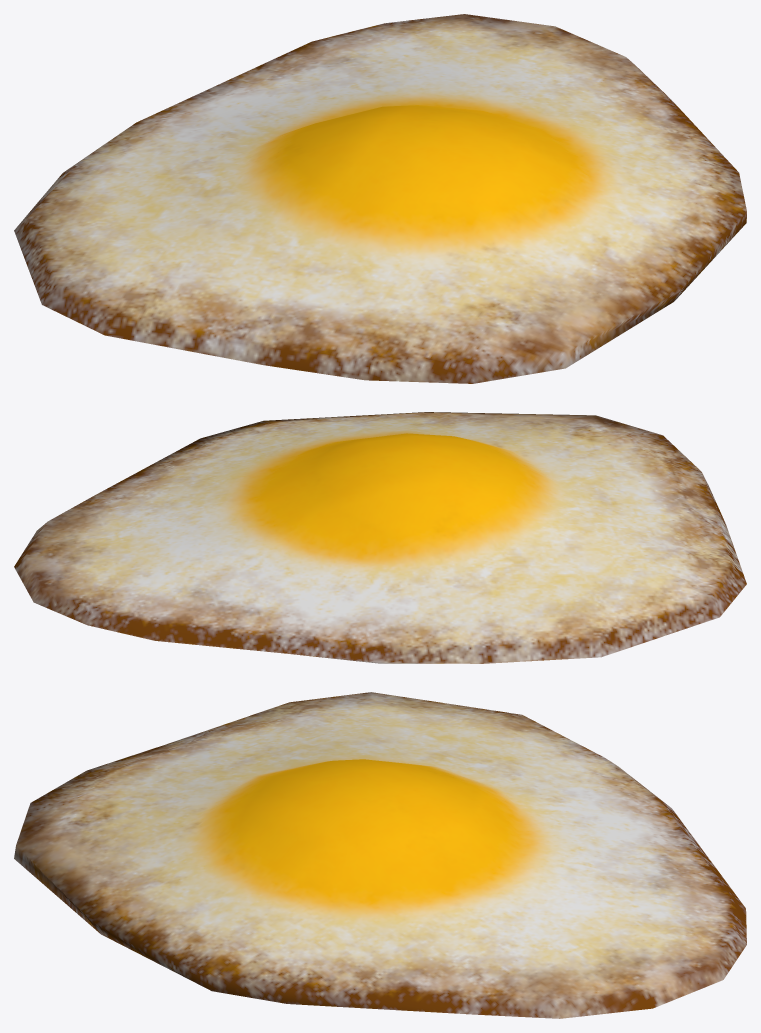
Rendered from CAMP_eggFried.fbx.
3 renders of one model, top to bottom at view 1: azimuth 30°, elevation 25°; view 2: azimuth 150°, elevation 25°; view 3: azimuth 270°, elevation 25°, orthographic. The views are drawn at different scales.
Visible parts, largest first — view 1: CAMP_eggFried; view 2: CAMP_eggFried; view 3: CAMP_eggFried.
Part boxes in pixels (x1,y1,x2,y2): CAMP_eggFried: (14,14,746,383); CAMP_eggFried: (14,412,746,663); CAMP_eggFried: (14,692,746,1018).
Size of the model in its own units: 9.26 by 1.35 by 9.
